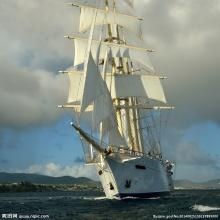fanchuan: (58, 1, 175, 199)
